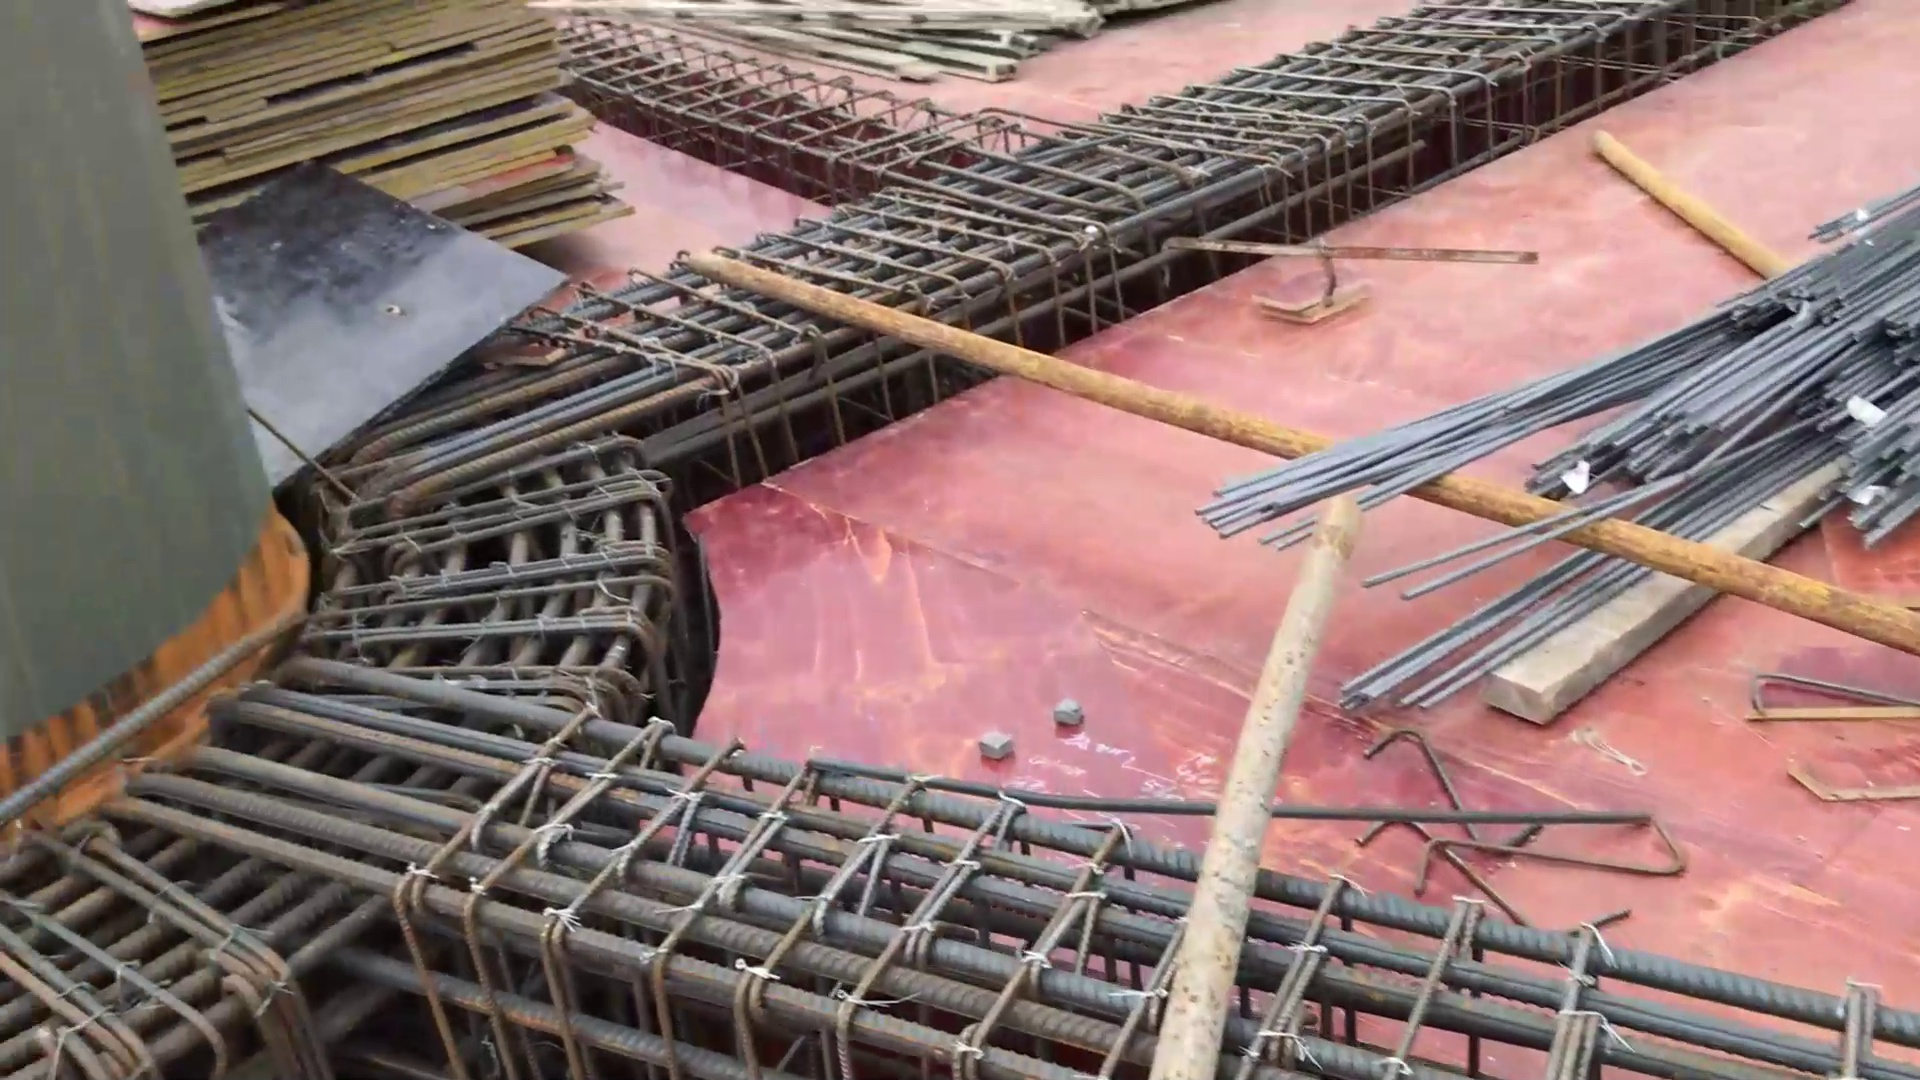board: (231, 1, 663, 291)
rebar: (1324, 187, 1920, 531)
